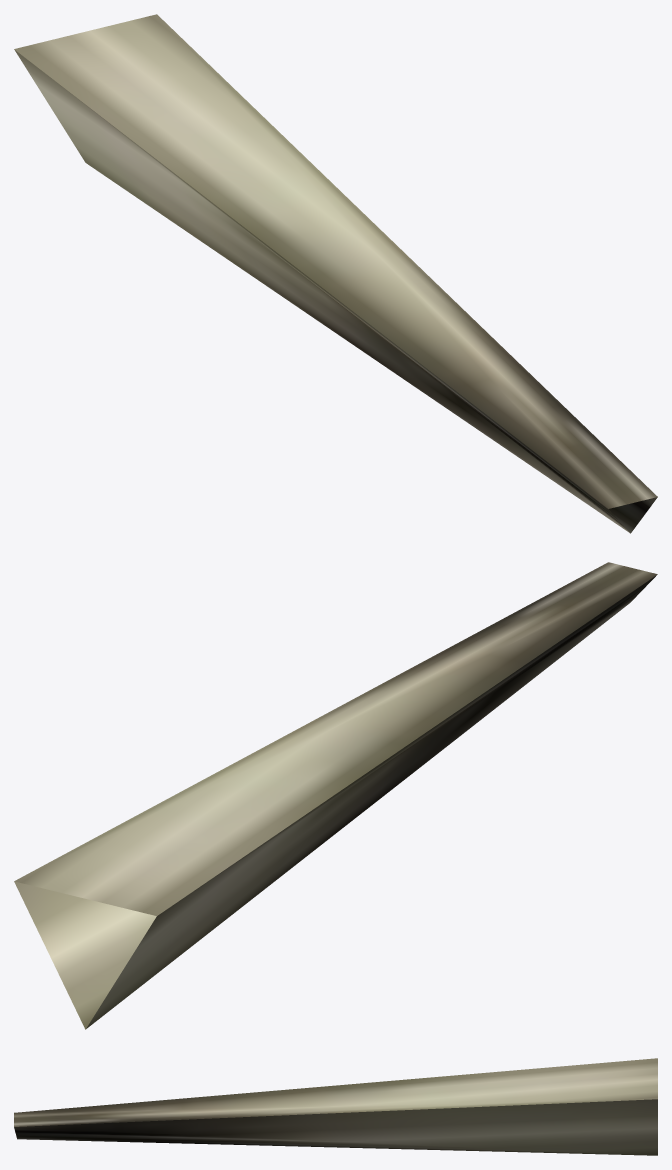
The model's file is cannonTrail.fbx.
3 renders of one model, top to bottom at view 1: azimuth 30°, elevation 25°; view 2: azimuth 150°, elevation 25°; view 3: azimuth 270°, elevation 25°, orthographic. The views are drawn at different scales.
Visible parts, largest first — view 1: trail; view 2: trail; view 3: trail.
Boxes of the visible parts, bbox=[...] form: trail: bbox=[14, 14, 657, 533]; trail: bbox=[14, 562, 657, 1029]; trail: bbox=[14, 1058, 657, 1155].
Size of the model in its own units: 73.71 by 64.58 by 489.
1 material, 1 textured.
